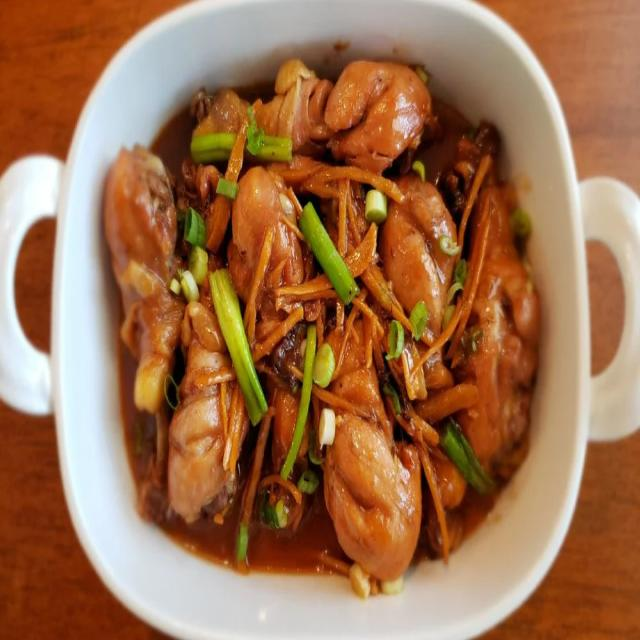ga kho: (106, 60, 539, 596)
